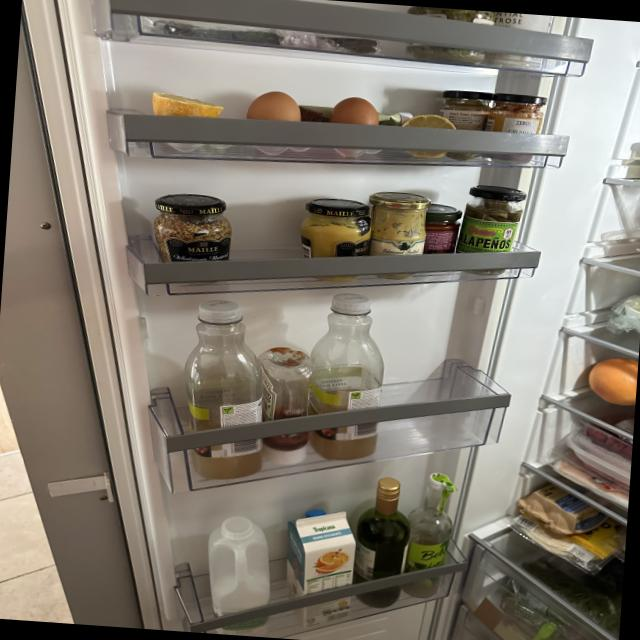Huevos: (516, 482, 600, 536), (587, 412, 631, 459)
Leche: (208, 514, 272, 632)
Limón: (394, 112, 455, 160), (152, 93, 224, 122)
orange: (583, 353, 638, 405)
